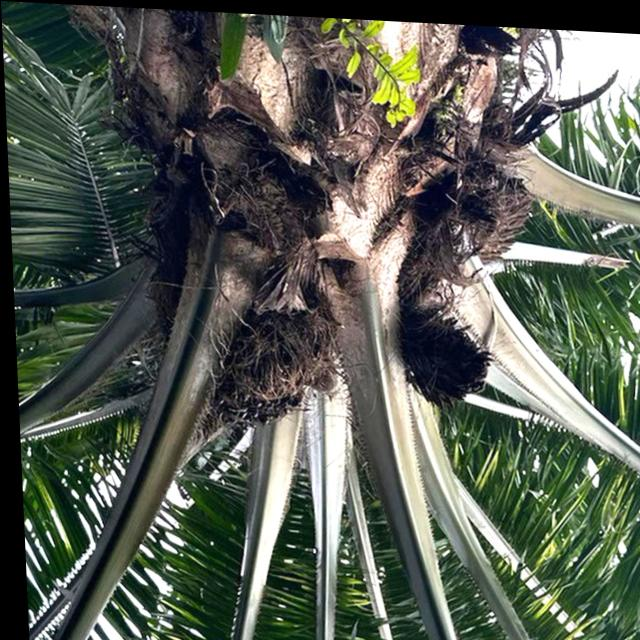almost: (195, 291, 341, 436)
